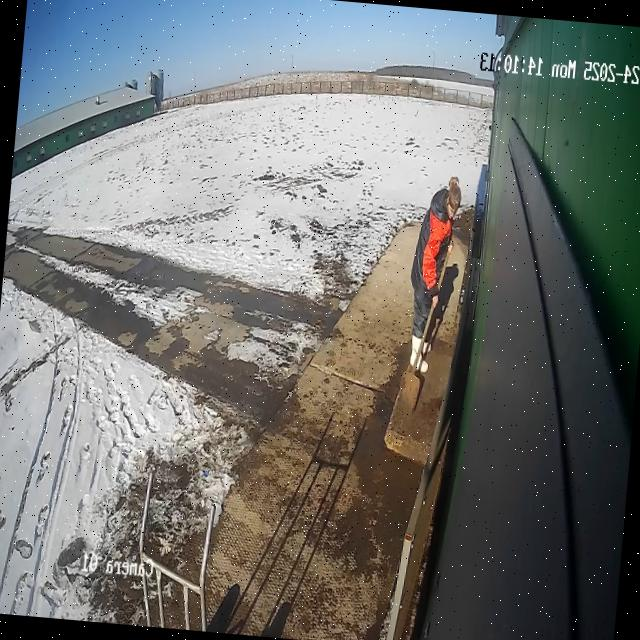Red uniform: (400, 171, 465, 376)
